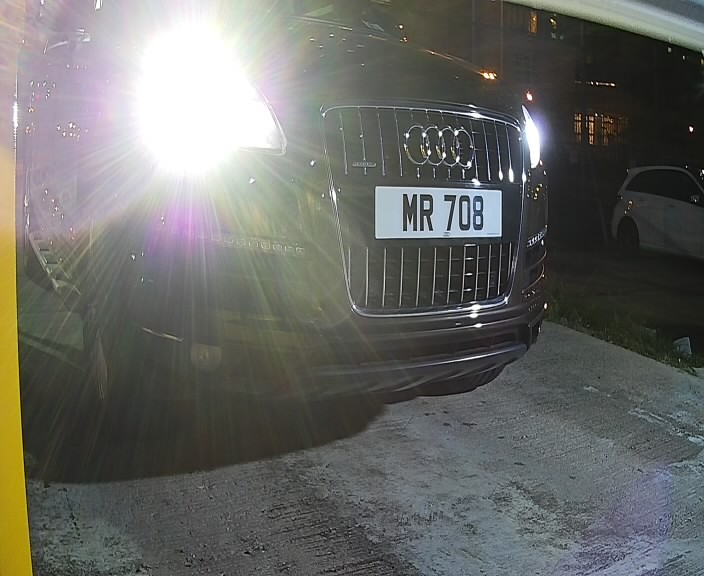Car: (3, 2, 578, 430)
License Plate: (363, 178, 512, 257)
